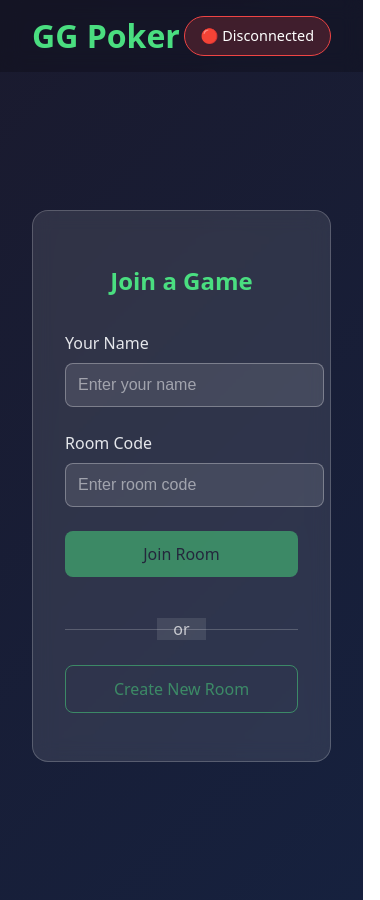
Test: App › enables join button when both name and room code are provided
The image size is (380, 900).
Type "TestPlayer" into the field labelled "Your Name" at (194, 385), box [65, 363, 324, 407]
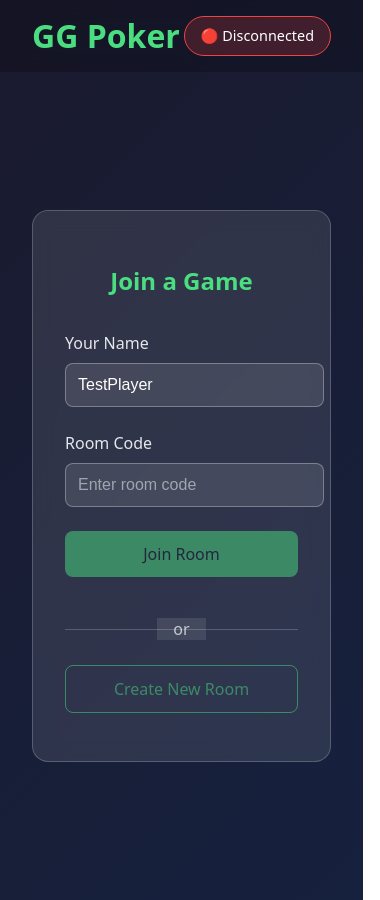
Type "ABC123" into the field labelled "Room Code" at (194, 485), box [65, 463, 324, 507]
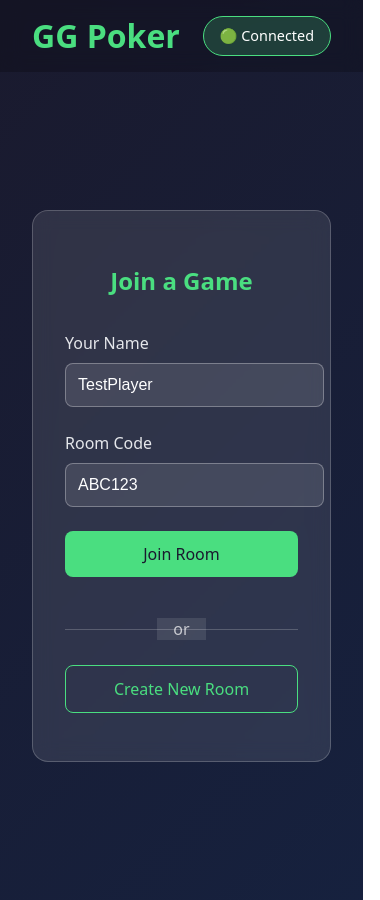
Result: the button "Join Room" is enabled at [65, 531, 298, 577]
